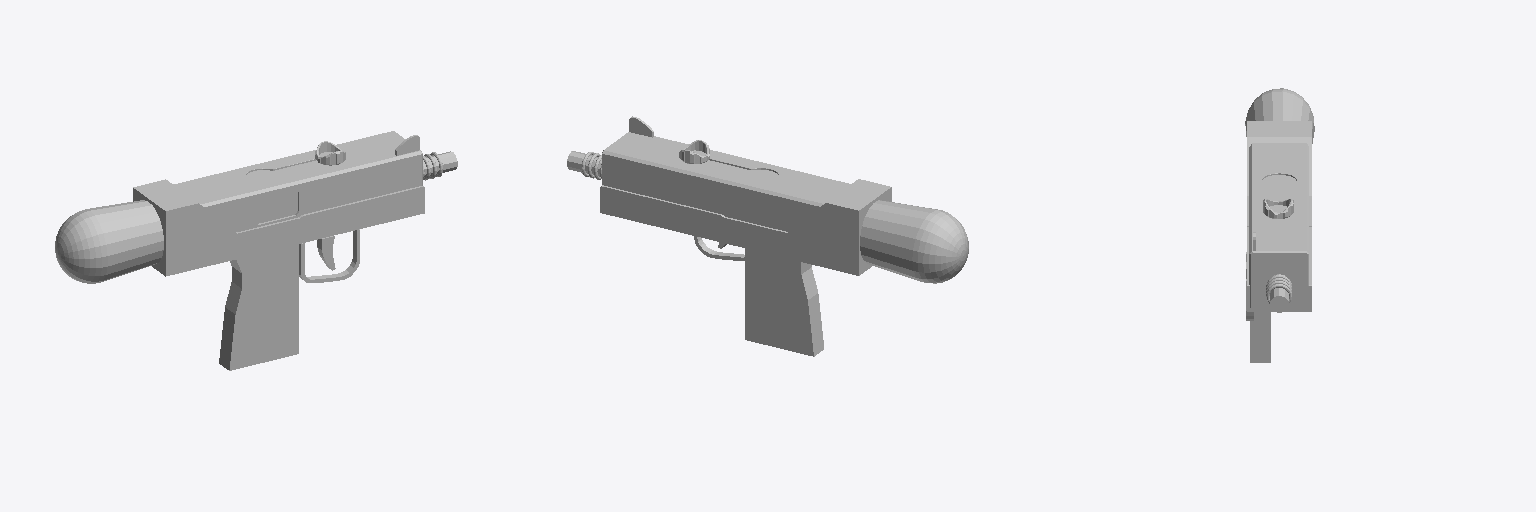
The model's file is pistola_agua.obj.
3 views of the same model, side by side, from view 1: azimuth 30°, elevation 25°; view 2: azimuth 150°, elevation 25°; view 3: azimuth 270°, elevation 25° (orthographic).
Parts seen in each view (by area): view 1: polySurface6; view 2: polySurface6; view 3: polySurface6.
Part boxes in pixels (x1,y1,x2,y2): polySurface6: (55, 131, 457, 370); polySurface6: (567, 116, 968, 356); polySurface6: (1245, 88, 1314, 362).
Bounding box in the file's own units: 0.9998 × 0.4565 × 0.153.